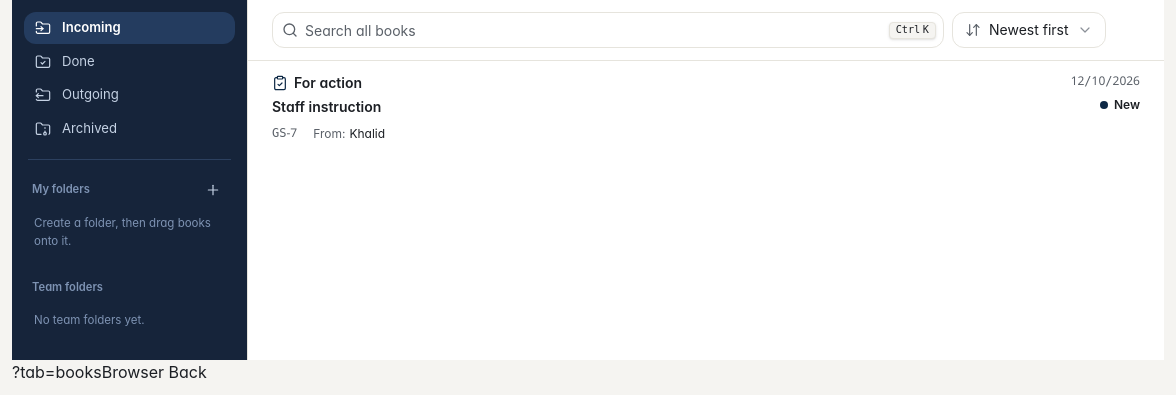
Test: Books routing desk › searches every place at once, tags each hit with its place, and Esc clears back to the scope
Type "Staff" into the search field named "Search books" at point(608, 30), box [272,12,944,48]
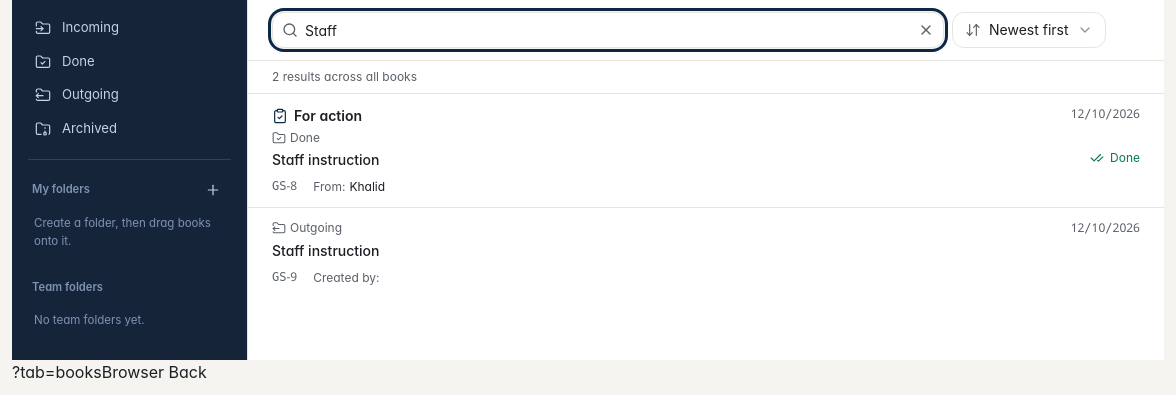
Result: the text "Done" is shown 2 times at [272,130,320,146]; [1090,150,1140,166]
Result: the text "Outgoing" is shown at [272,220,342,236]
Press Escape
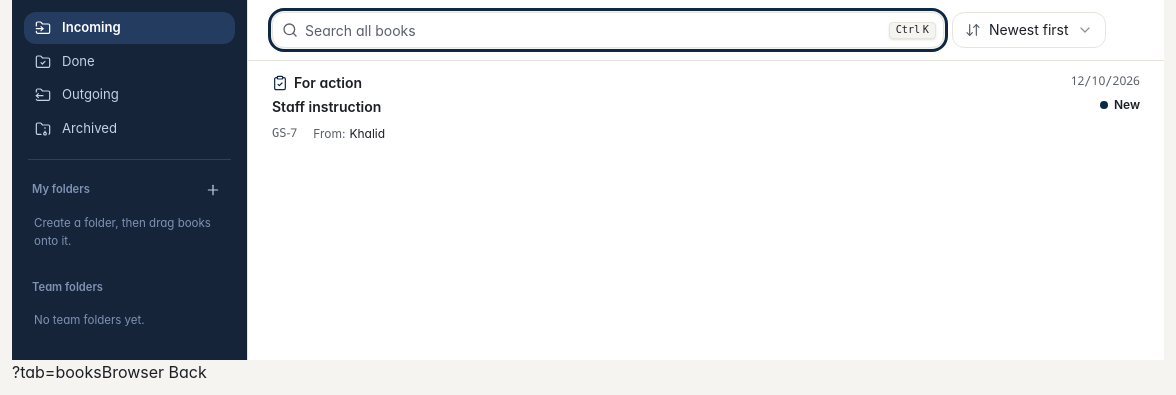
Result: the search field named "Search books" is empty at [272,12,944,48]
Result: the button "GS-7" is shown at [248,61,1164,154]
